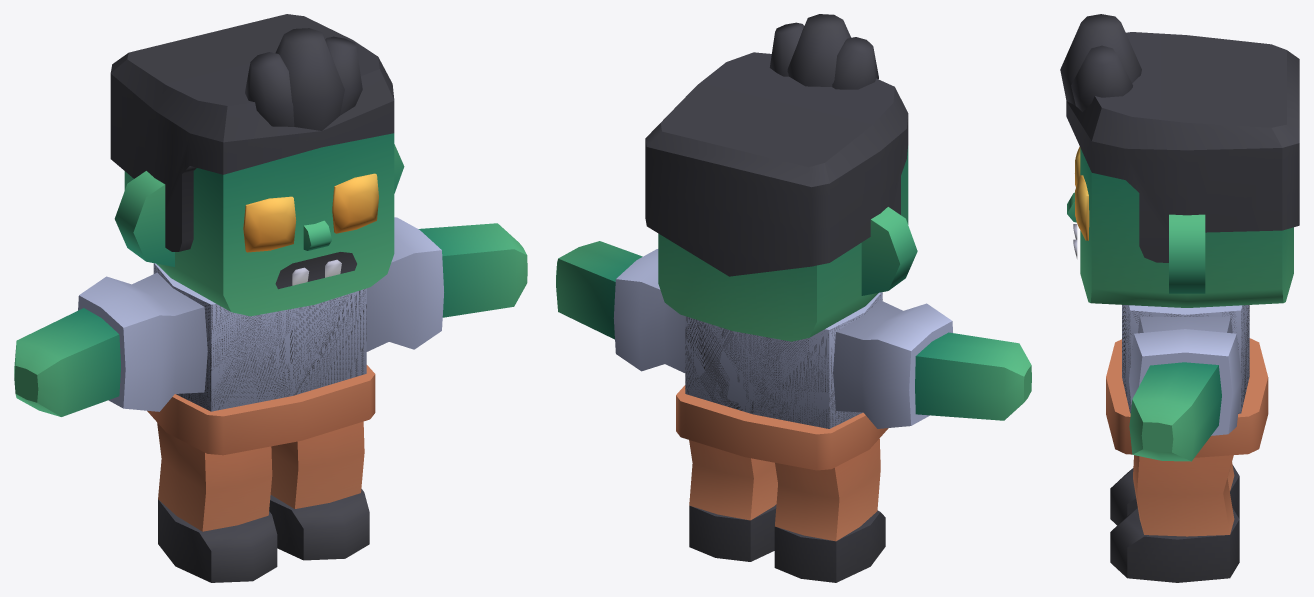
Rendered from character-zombie.glb.
3 renders of one model, left to right at view 1: azimuth 30°, elevation 25°; view 2: azimuth 150°, elevation 25°; view 3: azimuth 270°, elevation 25°, orthographic. The views are drawn at different scales.
Visible parts, largest first — view 1: head, torso, arm-right, leg-right, arm-left, leg-left; view 2: head, torso, arm-right, leg-right, arm-left, leg-left; view 3: head, arm-left, leg-left, torso, leg-right.
Boxes of the visible parts, x1,y1,x2,y2 form: head: (110,14,404,316); torso: (147,263,375,455); arm-right: (14,272,207,416); leg-right: (157,422,277,582); arm-left: (366,217,527,351); leg-left: (269,421,369,560); head: (645,14,917,341); torso: (676,292,888,470); arm-right: (833,300,1031,428); leg-right: (774,439,885,582); arm-left: (556,241,685,372); leg-left: (689,440,777,561); head: (1060,14,1299,307); arm-left: (1129,316,1241,461); leg-left: (1110,455,1239,582); torso: (1106,305,1268,457); leg-right: (1110,462,1239,525).
Bounding box in the file's own units: 0.8114 × 0.8251 × 0.3455.
1 material, 1 textured.
